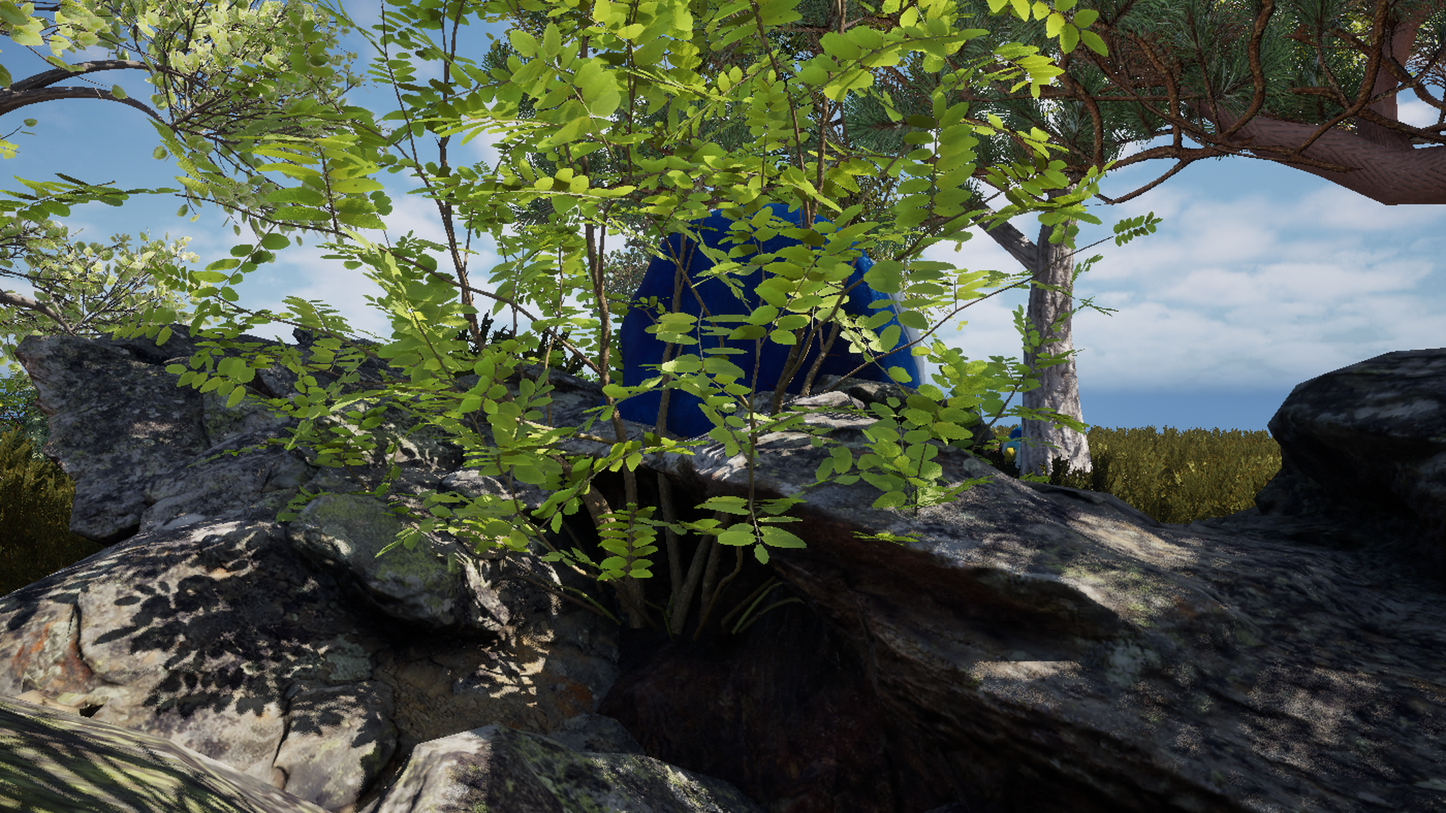Piplup: (286, 0, 1055, 813)
